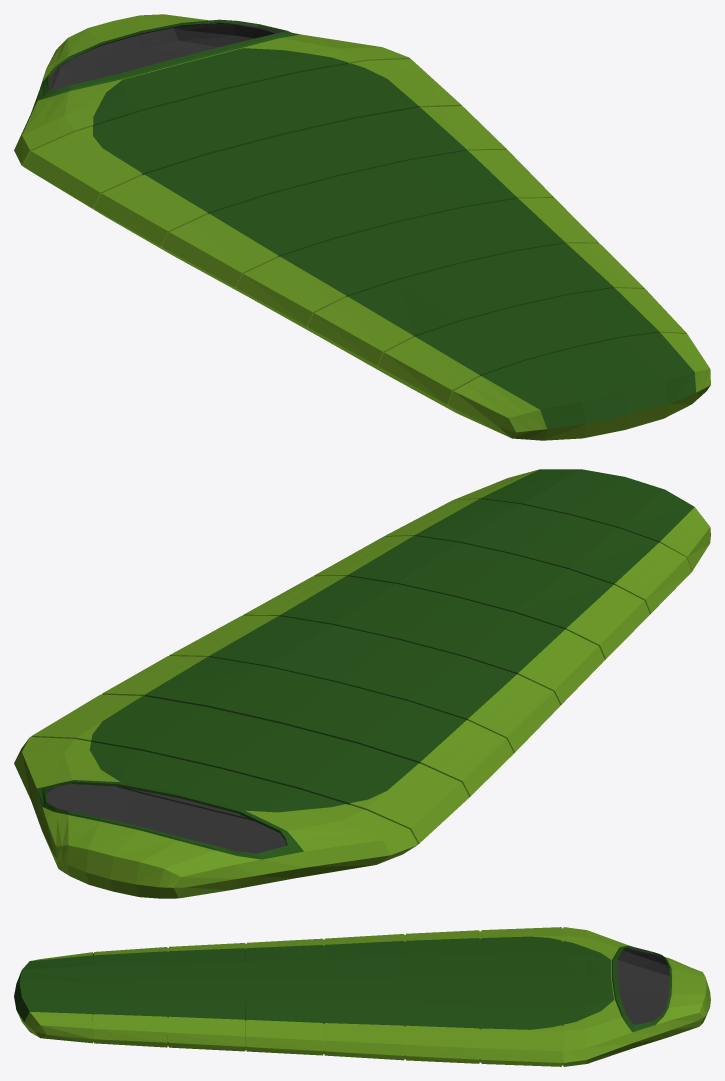
Rendered from sleepingBag.obj.
3 renders of one model, top to bottom at view 1: azimuth 30°, elevation 25°; view 2: azimuth 150°, elevation 25°; view 3: azimuth 270°, elevation 25°, orthographic. The views are drawn at different scales.
Parts seen in each view (by area): view 1: Circle; view 2: Circle; view 3: Circle.
Part boxes in pixels (box(x1,y1,x2,y2)): Circle: box(14, 14, 710, 440); Circle: box(14, 469, 710, 898); Circle: box(14, 927, 710, 1066).
Bounding box in the file's own units: 88.16 × 10.07 × 200.
